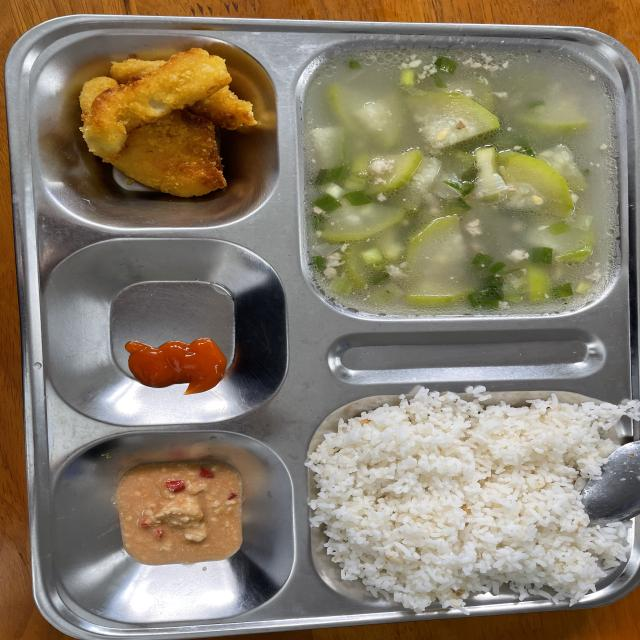com_trang: (331, 418, 640, 592)
